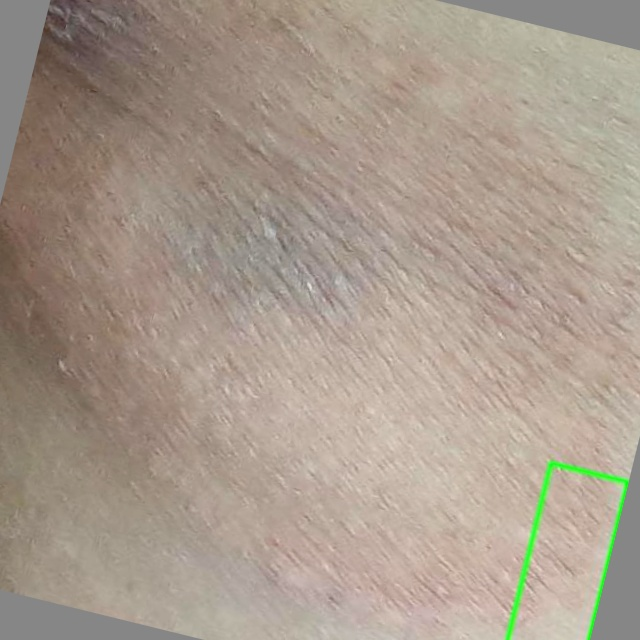Tinea Corporis: (507, 463, 628, 639)
